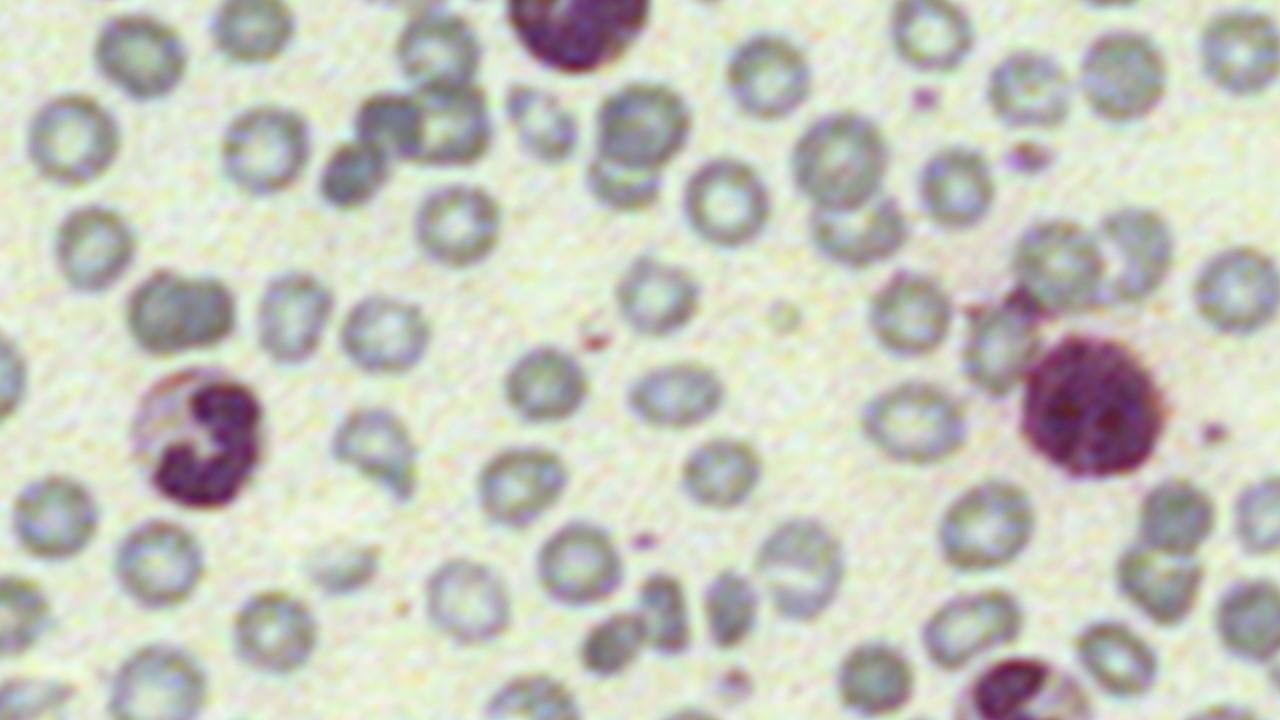RBC: (119, 358, 273, 514), (852, 374, 974, 469), (929, 474, 1040, 577), (788, 106, 892, 214), (20, 88, 126, 191), (87, 7, 193, 107), (392, 74, 497, 174), (591, 77, 699, 173), (675, 151, 776, 253), (418, 549, 518, 650), (860, 263, 957, 366), (916, 584, 1029, 672), (333, 286, 436, 382), (1185, 238, 1280, 342), (718, 26, 816, 126), (216, 100, 316, 198), (408, 176, 506, 270), (1192, 2, 1280, 103), (498, 336, 592, 430), (912, 137, 1000, 236), (968, 651, 1094, 719), (1211, 569, 1279, 671), (1228, 465, 1280, 562)
